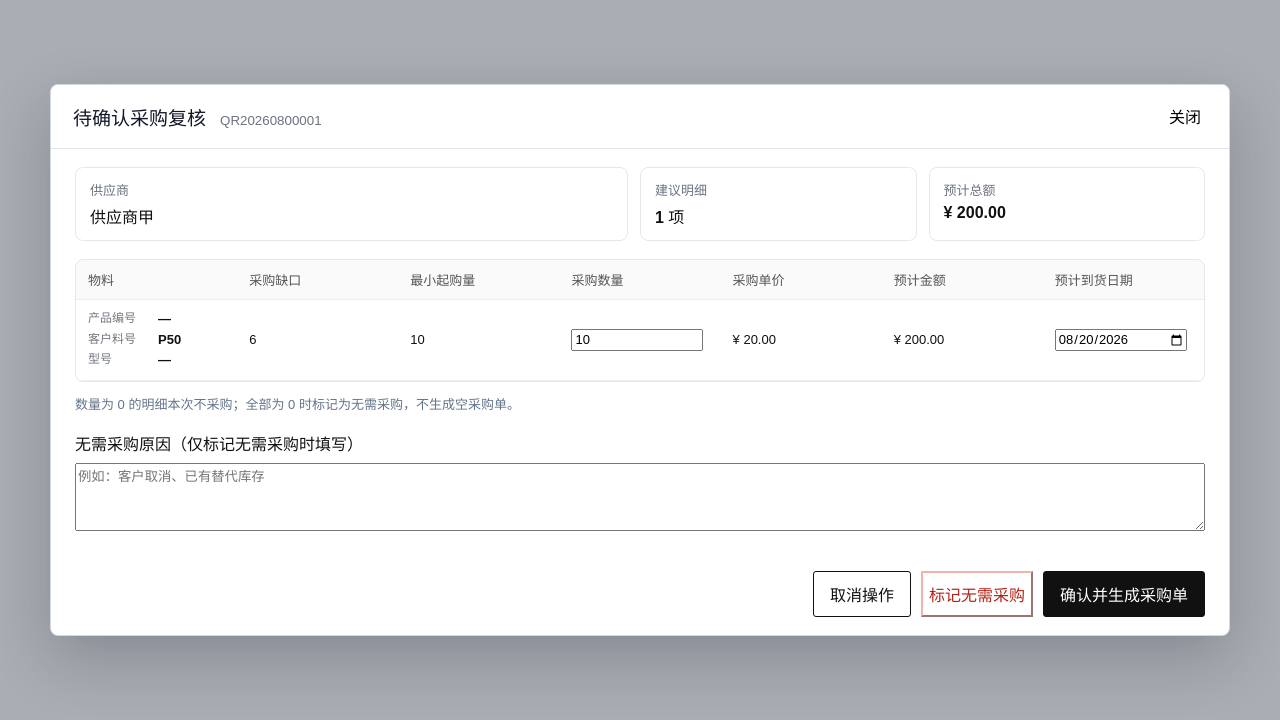
requires a rejection reason
This screenshot has width=1280, height=720.
Click the button with test id "reject-procurement" at (977, 594), box x1=921 y1=571 x2=1033 y2=617
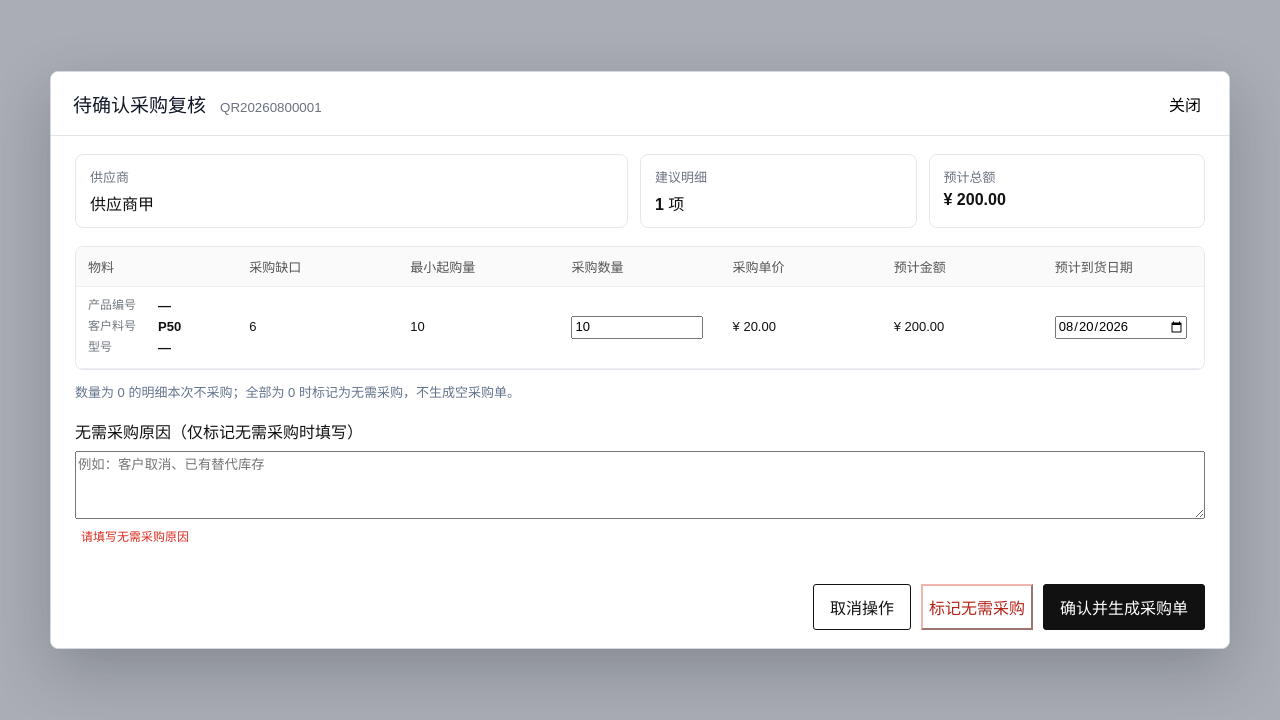
Check: the text "请填写无需采购原因" is shown, box x1=81 y1=530 x2=189 y2=544
